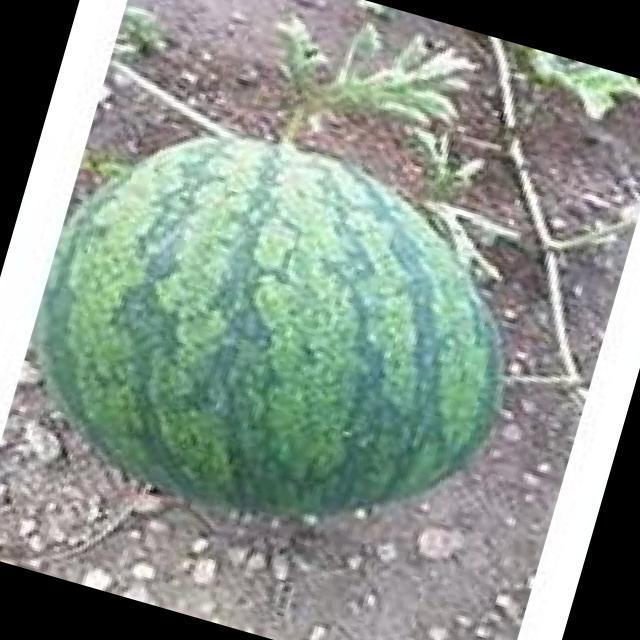watermelon: (36, 138, 500, 523)
